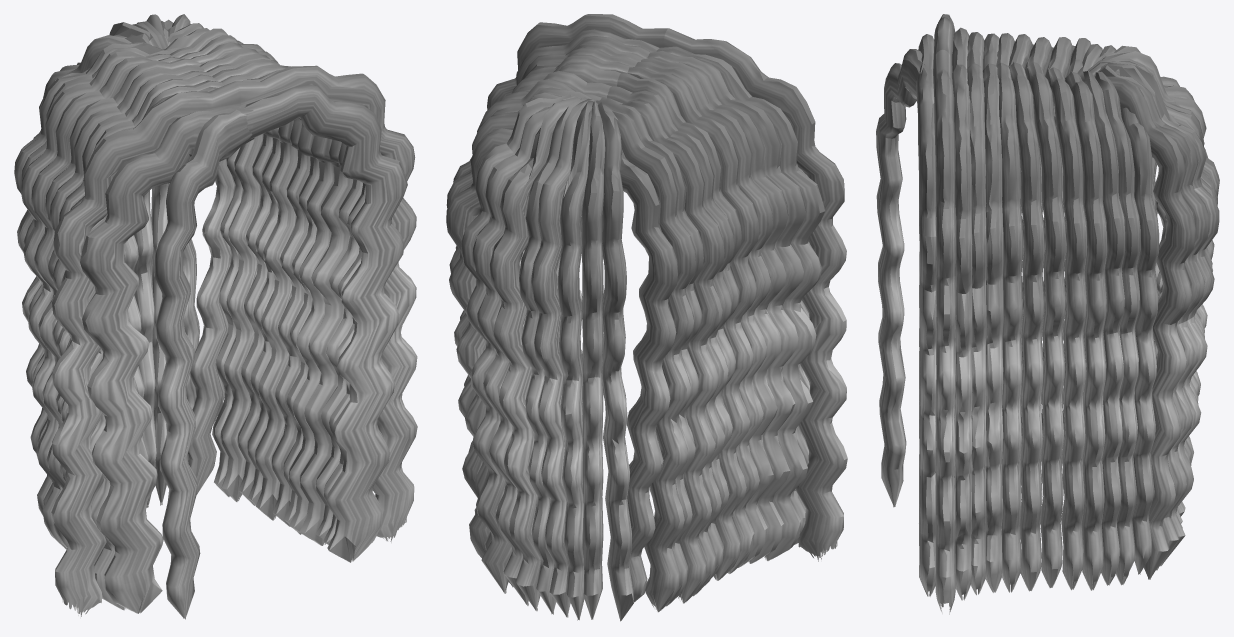
File: Perfect_hair_curly.fbx
3 views of the same model, side by side, from view 1: azimuth 30°, elevation 25°; view 2: azimuth 150°, elevation 25°; view 3: azimuth 270°, elevation 25° (orthographic).
Visible parts, largest first — view 1: Perfect_hair_curly; view 2: Perfect_hair_curly; view 3: Perfect_hair_curly.
Boxes of the visible parts, x1,y1,x2,y2 form: Perfect_hair_curly: (14, 14, 417, 619); Perfect_hair_curly: (446, 14, 847, 621); Perfect_hair_curly: (876, 14, 1219, 614).
Bounding box in the file's own units: 3.51 × 4.77 × 2.91.
